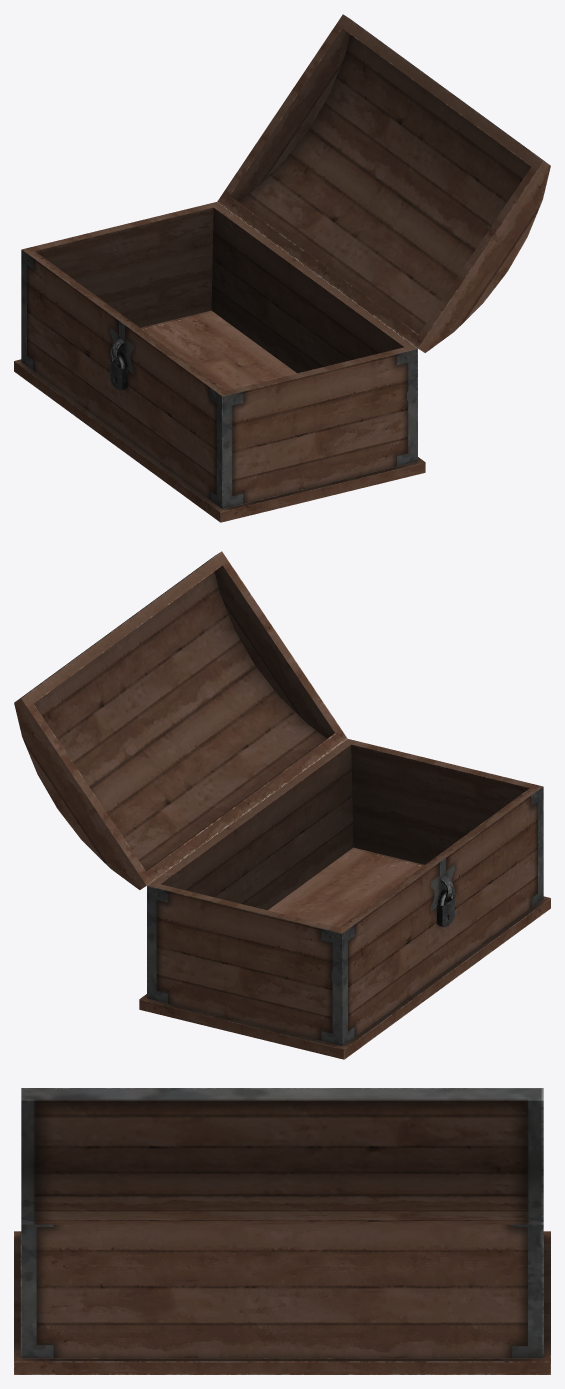
Rendered from Chest.fbx.
3 renders of one model, top to bottom at view 1: azimuth 30°, elevation 25°; view 2: azimuth 150°, elevation 25°; view 3: azimuth 270°, elevation 25°, orthographic. The views are drawn at different scales.
Parts seen in each view (by area): view 1: Chest; view 2: Chest; view 3: Chest.
Part boxes in pixels (x1,y1,x2,y2): Chest: [14, 14, 550, 522]; Chest: [14, 551, 550, 1059]; Chest: [14, 1088, 550, 1374].
Size of the model in its own units: 91.74 by 72.42 by 96.94.
